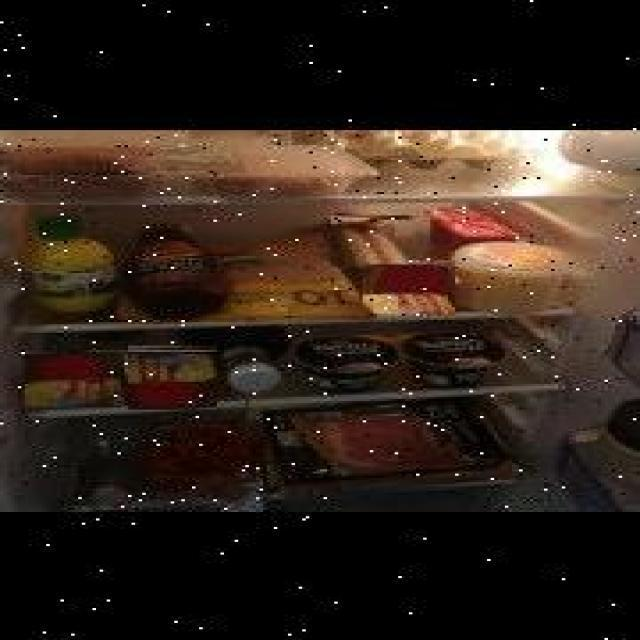sausage: (330, 216, 412, 264)
yogurt: (27, 348, 126, 404), (128, 346, 217, 406), (362, 262, 456, 312)
